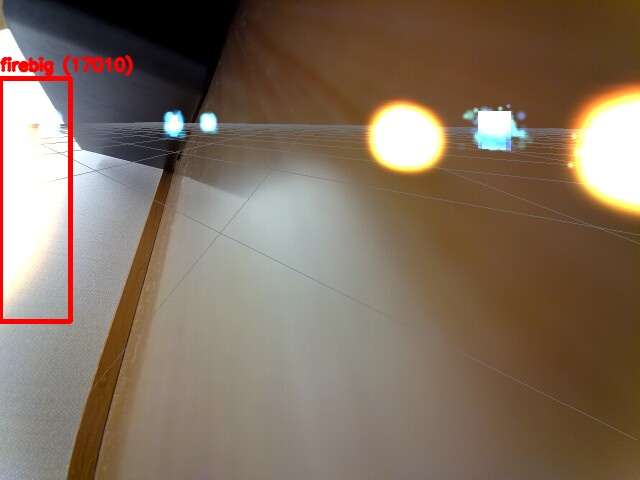firebig: (0, 78, 70, 321)
